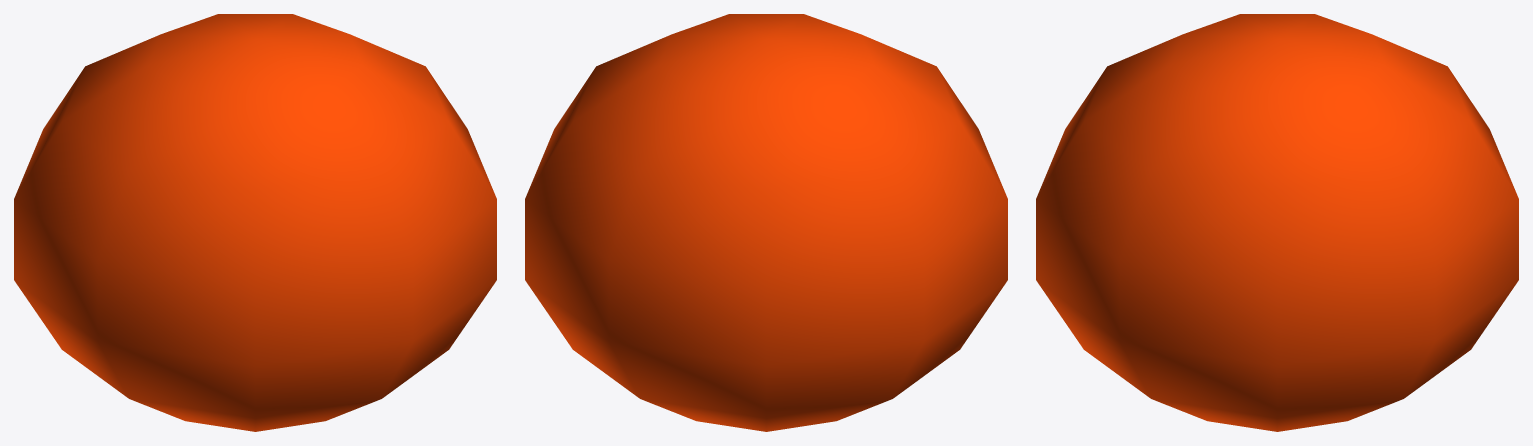
The model's file is cindrel_stage1.obj.
3 views of the same model, side by side, from view 1: azimuth 30°, elevation 25°; view 2: azimuth 150°, elevation 25°; view 3: azimuth 270°, elevation 25° (orthographic).
Size of the model in its own units: 1.23 by 1.04 by 1.25.
